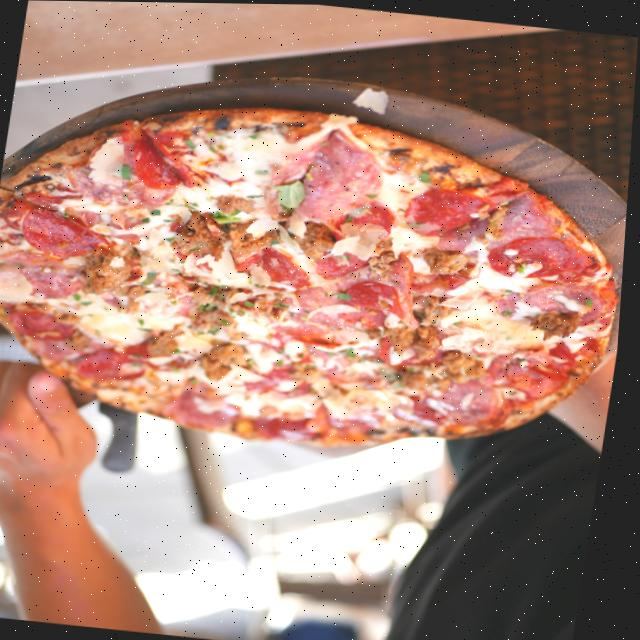basil: (269, 173, 317, 215), (379, 364, 412, 389), (167, 195, 205, 213), (324, 284, 356, 301), (71, 289, 101, 307), (209, 277, 232, 299), (417, 164, 438, 185), (186, 369, 206, 388), (137, 316, 159, 333), (275, 295, 297, 312), (119, 162, 136, 182), (143, 269, 159, 289), (202, 299, 224, 313), (342, 342, 360, 359), (218, 311, 236, 328), (584, 291, 600, 308), (244, 298, 260, 314), (270, 235, 285, 246), (231, 204, 245, 215), (247, 188, 262, 198), (151, 205, 164, 214)
pepperoni: (17, 194, 120, 264), (123, 121, 212, 197), (401, 179, 504, 242), (80, 332, 171, 387), (485, 229, 578, 282), (232, 243, 315, 294), (323, 196, 398, 249), (340, 271, 413, 322), (7, 304, 87, 349), (377, 326, 455, 372), (167, 221, 224, 271), (313, 242, 379, 284), (276, 329, 349, 366), (257, 365, 322, 402), (252, 412, 325, 441), (408, 391, 459, 431)
pizza: (0, 78, 636, 475)
